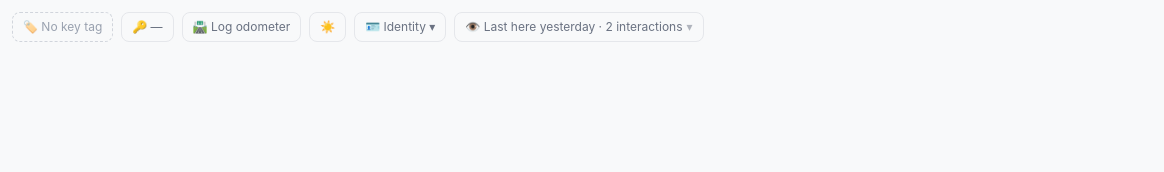
Test: tapping the chip › reveals every visit, newest first
This screenshot has width=1164, height=172.
Click the button with test id "seen-chip". click: click(579, 27)
box: [454, 12, 704, 42]
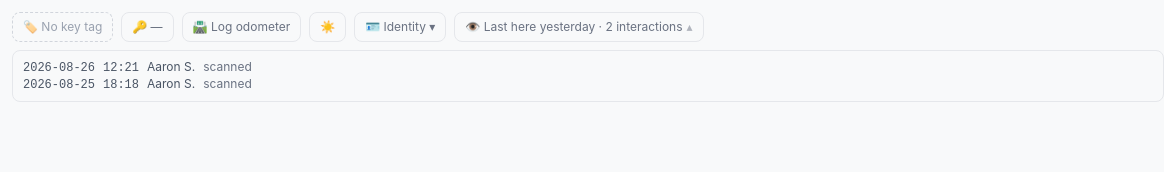
Result: the element with test id "seen-history" shows "2026-08-26" at [23, 61, 95, 75]
Result: the element with test id "seen-history" shows "2026-08-25" at [23, 78, 95, 92]
